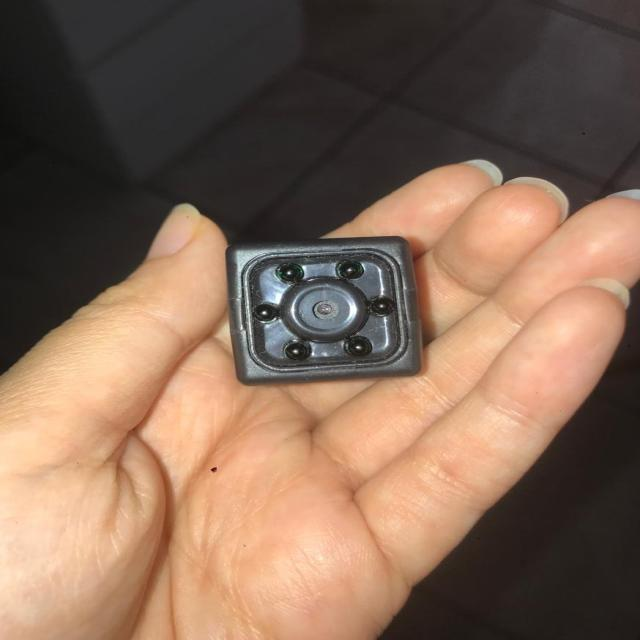hidden camera: (314, 300, 340, 321)
